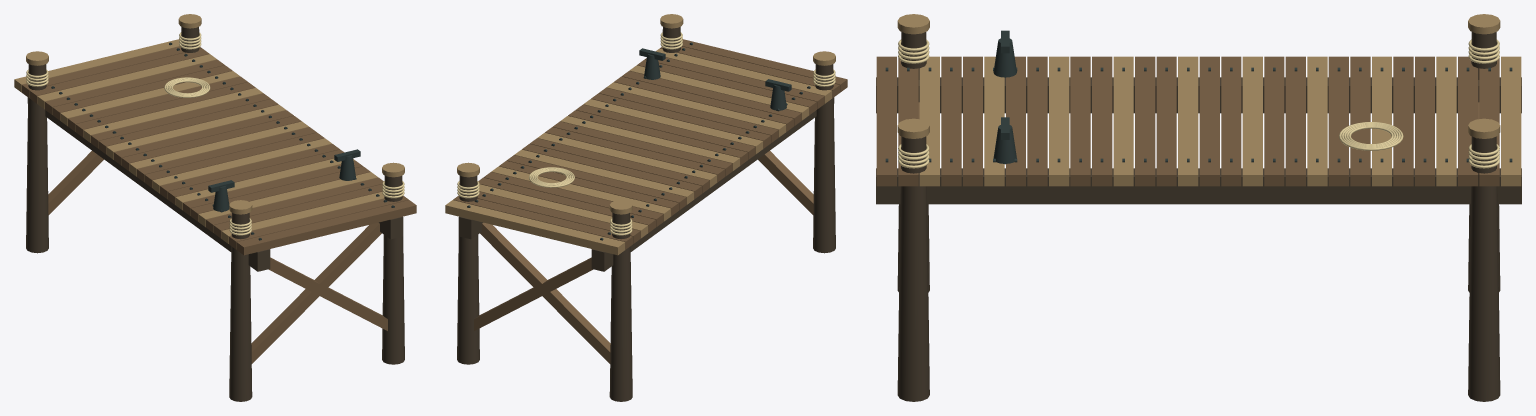
Rendered from SM_Dock_01.glb.
The picture shows the model from 3 angles, left to right: view 1: azimuth 30°, elevation 25°; view 2: azimuth 150°, elevation 25°; view 3: azimuth 270°, elevation 25°; orthographic projection. The views are drawn at different scales.
Parts seen in each view (by area): view 1: SM_Dock_01_M_DH_wood, SM_Dock_01_M_DH_woodLight, SM_Dock_01_M_DH_woodDark, SM_Dock_01_M_DH_cream, SM_Dock_01_M_DH_iron (×2); view 2: SM_Dock_01_M_DH_wood, SM_Dock_01_M_DH_woodLight, SM_Dock_01_M_DH_woodDark, SM_Dock_01_M_DH_cream, SM_Dock_01_M_DH_iron (×2); view 3: SM_Dock_01_M_DH_wood, SM_Dock_01_M_DH_woodDark, SM_Dock_01_M_DH_woodLight, SM_Dock_01_M_DH_cream, SM_Dock_01_M_DH_iron.
Boxes of the visible parts, x1,y1,x2,y2 form: SM_Dock_01_M_DH_wood: (22,46,416,363); SM_Dock_01_M_DH_woodLight: (14,14,404,243); SM_Dock_01_M_DH_woodDark: (26,26,404,401); SM_Dock_01_M_DH_cream: (26,32,404,235); SM_Dock_01_M_DH_iron (×2): (51,42,394,240); SM_Dock_01_M_DH_wood: (453,39,847,363); SM_Dock_01_M_DH_woodLight: (445,14,835,255); SM_Dock_01_M_DH_woodDark: (457,26,835,401); SM_Dock_01_M_DH_cream: (457,32,835,235); SM_Dock_01_M_DH_iron (×2): (467,42,810,240); SM_Dock_01_M_DH_wood: (876,56,1499,186); SM_Dock_01_M_DH_woodDark: (876,32,1521,401); SM_Dock_01_M_DH_woodLight: (897,14,1521,186); SM_Dock_01_M_DH_cream: (898,39,1499,168); SM_Dock_01_M_DH_iron: (885,38,1512,164).
Size of the model in its own units: 2.6 by 2.76 by 6.
